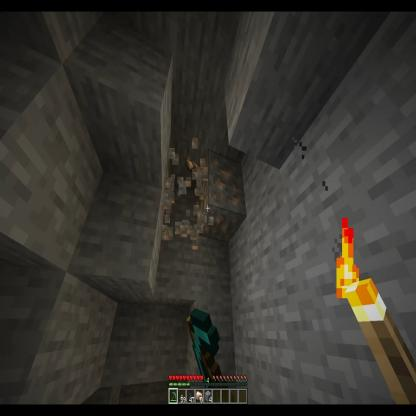iron ore: (197, 152, 246, 245)
